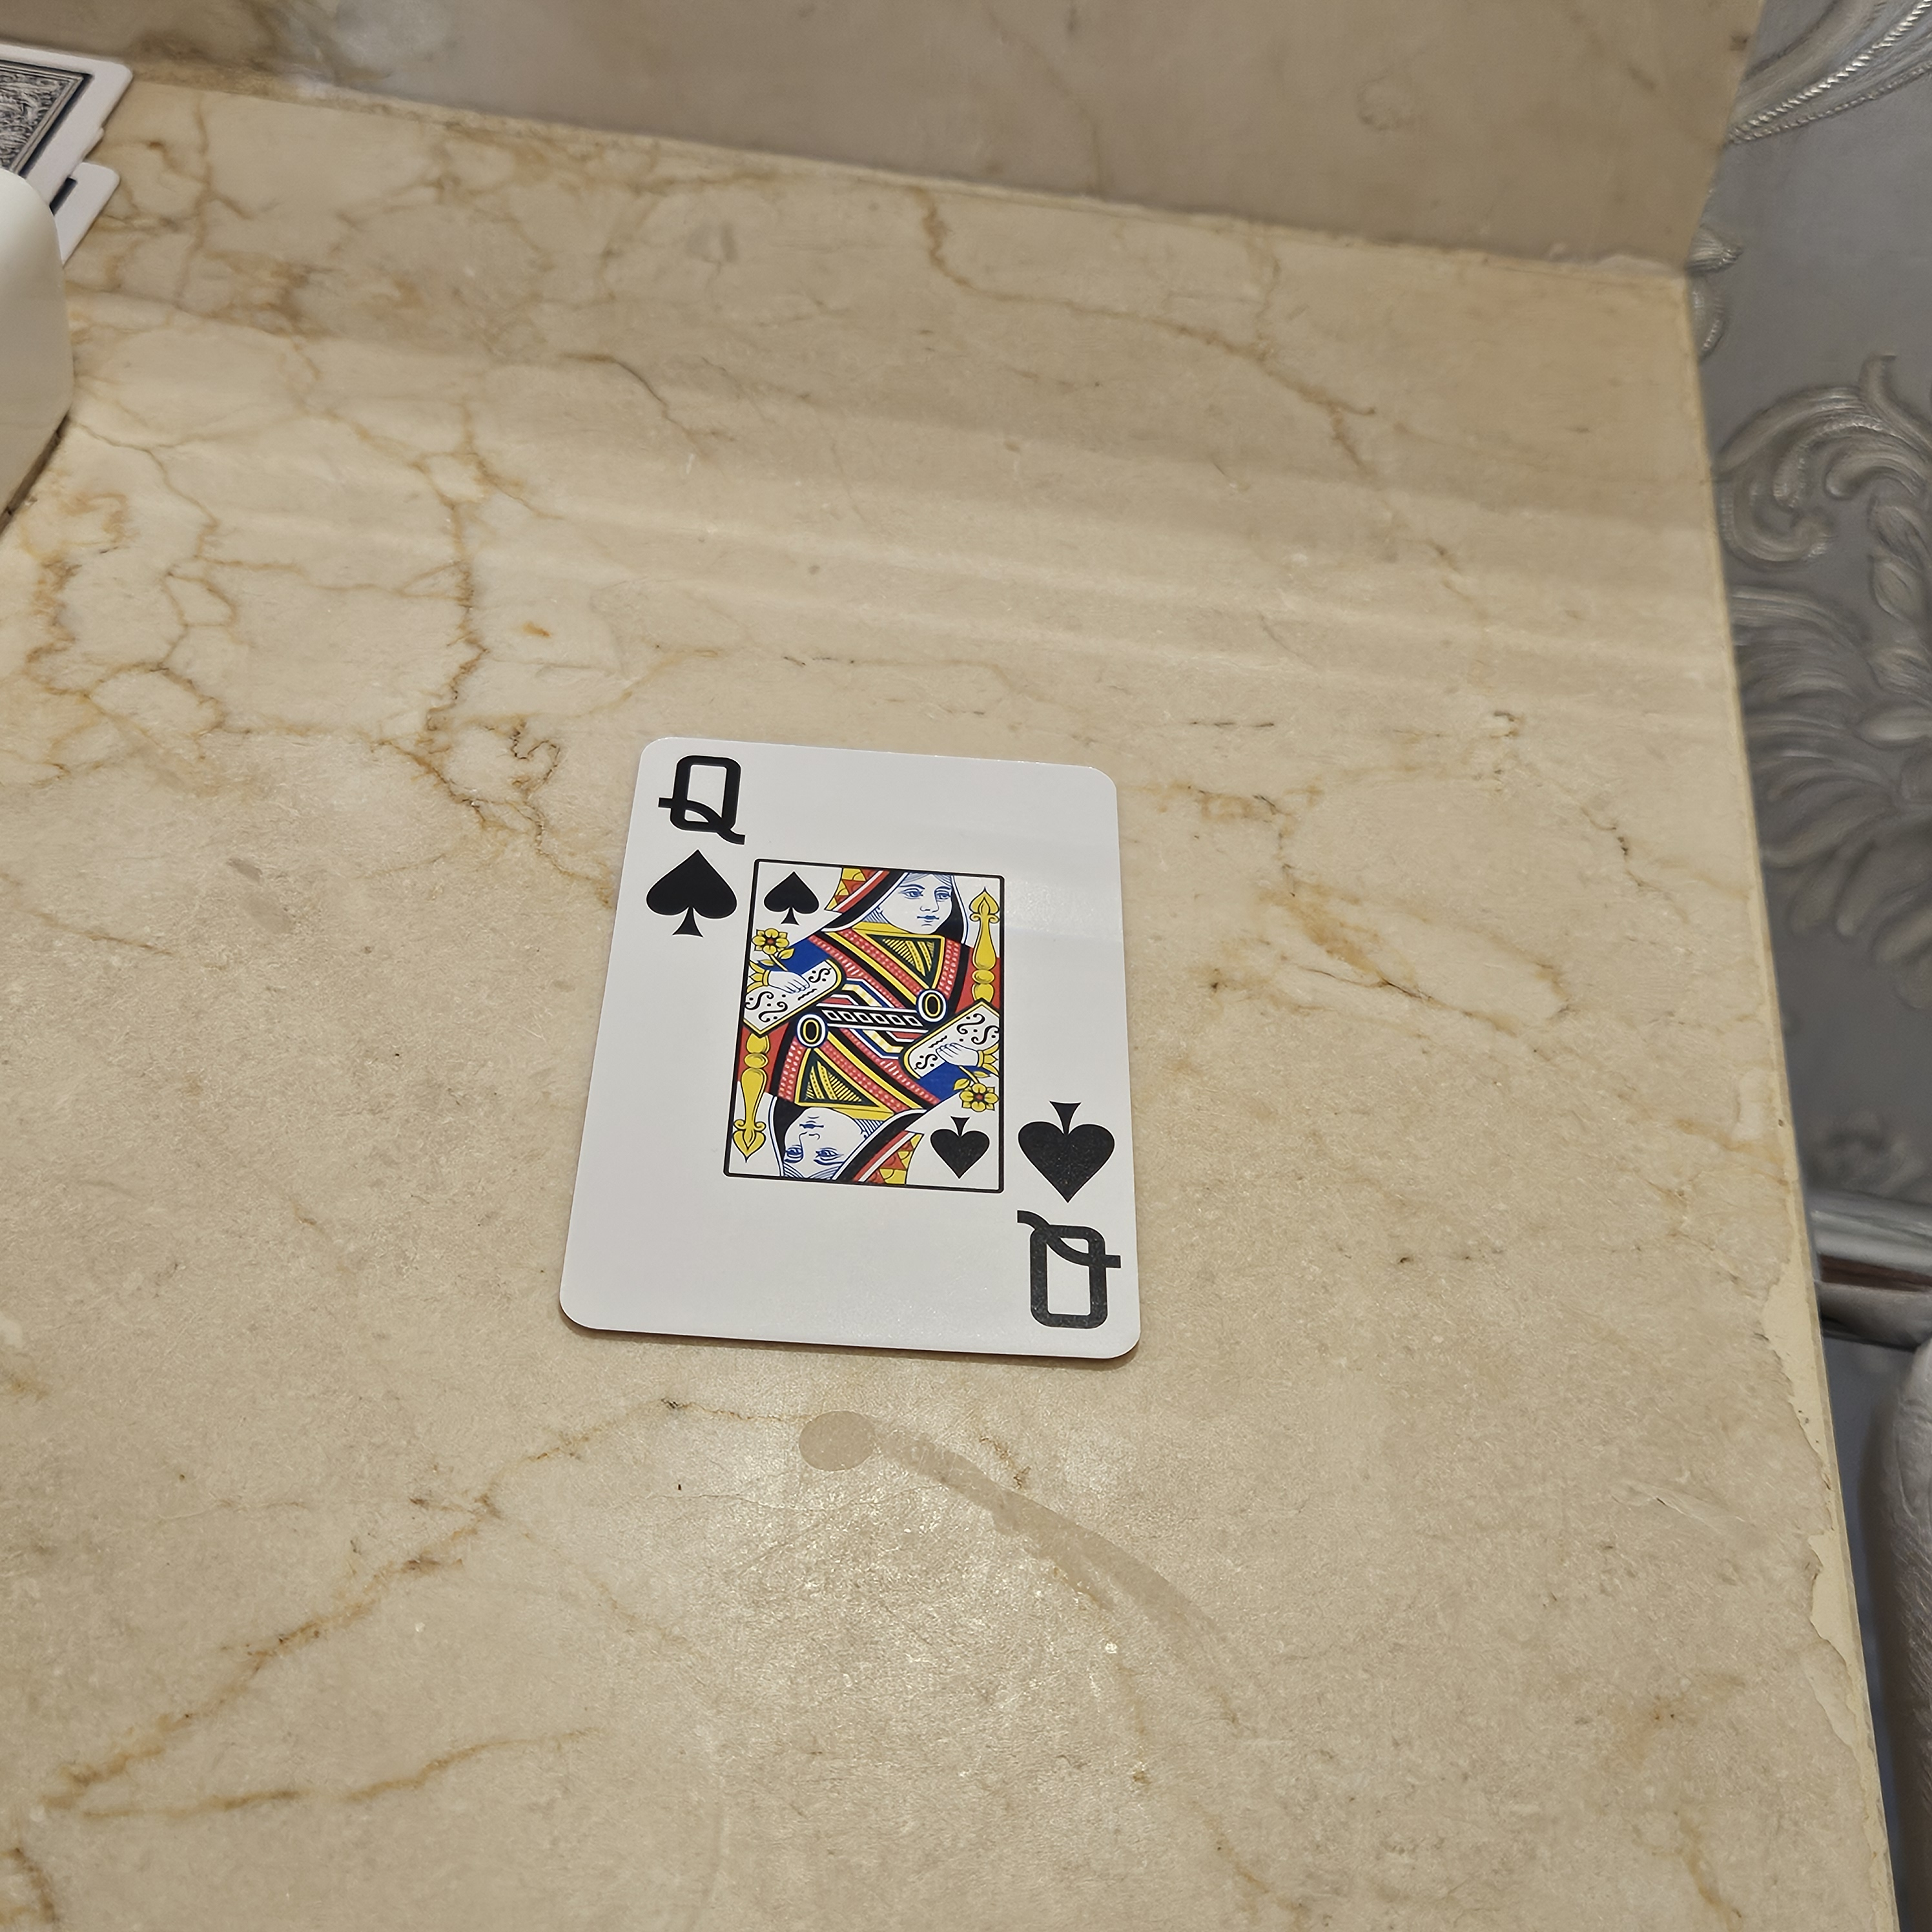QE: (989, 1090, 1141, 1355), (637, 743, 763, 954)
